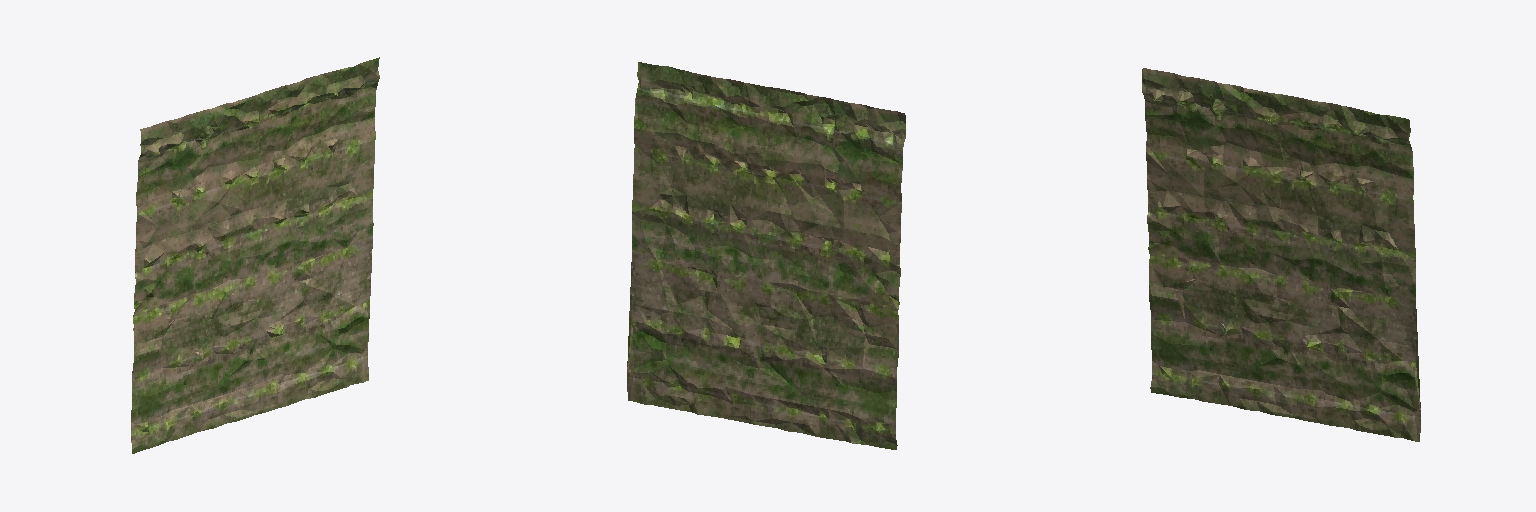
3 views of the same model, side by side, from view 1: azimuth 30°, elevation 25°; view 2: azimuth 150°, elevation 25°; view 3: azimuth 330°, elevation 25° (orthographic).
Visible parts, largest first — view 1: grp1; view 2: grp1; view 3: grp1.
Boxes of the visible parts, <box> form: grp1: <box>131,57,379,453</box>; grp1: <box>627,62,905,449</box>; grp1: <box>1142,68,1420,441</box>.
Size of the model in its own units: 8 by 10 by 1.58.
Materials: 1 (1 with a texture image).